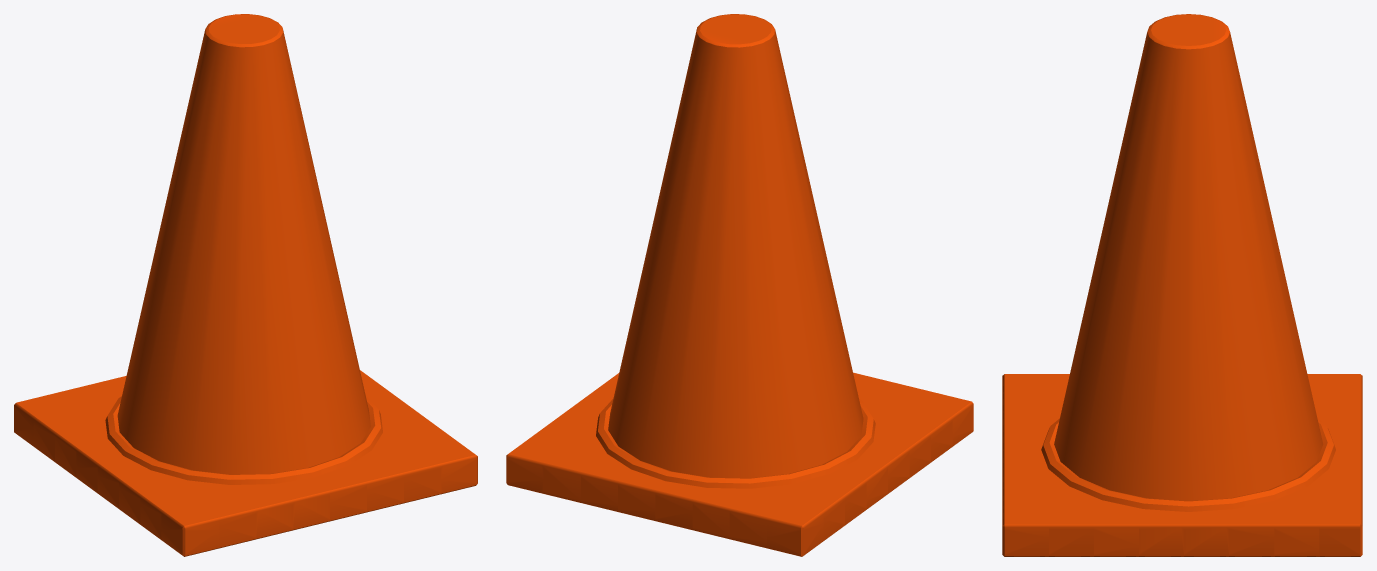
File: PionM.fbx
The picture shows the model from 3 angles, left to right: view 1: azimuth 30°, elevation 25°; view 2: azimuth 150°, elevation 25°; view 3: azimuth 270°, elevation 25°; orthographic projection. The views are drawn at different scales.
Visible parts, largest first — view 1: VekeerspionModel; view 2: VekeerspionModel; view 3: VekeerspionModel.
Part boxes in pixels (x1,y1,x2,y2): VekeerspionModel: (14, 14, 477, 556); VekeerspionModel: (506, 14, 973, 556); VekeerspionModel: (1002, 14, 1362, 556).
Bounding box in the file's own units: 200 × 277 × 200.
1 material, 1 textured.
